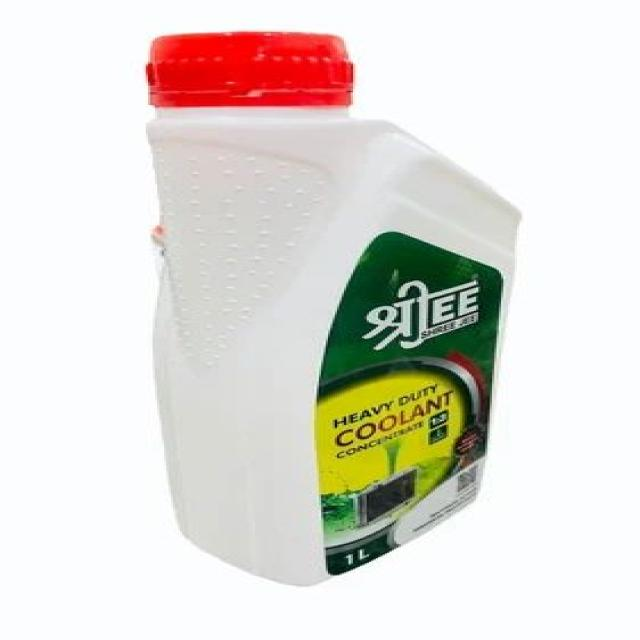coolant: (127, 24, 533, 591)
